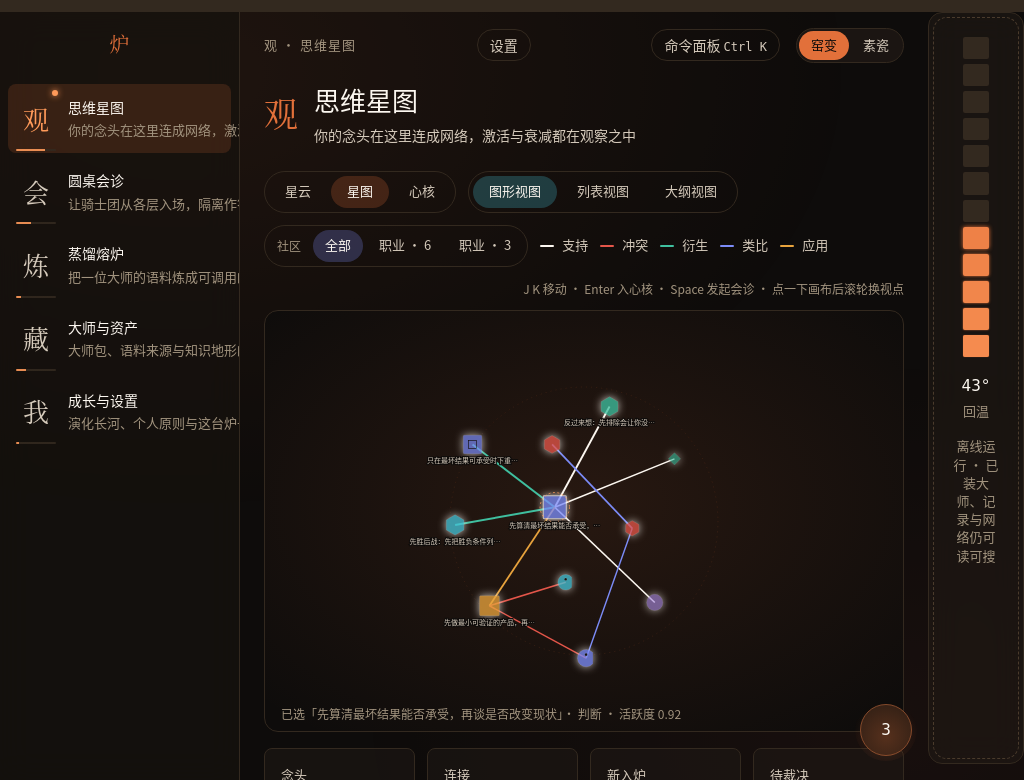
Test: 应用外壳 › 我境界显示运行信息
Click the button "我 成长与设置 演化长河、个人原则与这台炉子的所有开关": click(120, 411) [8,377,231,446]
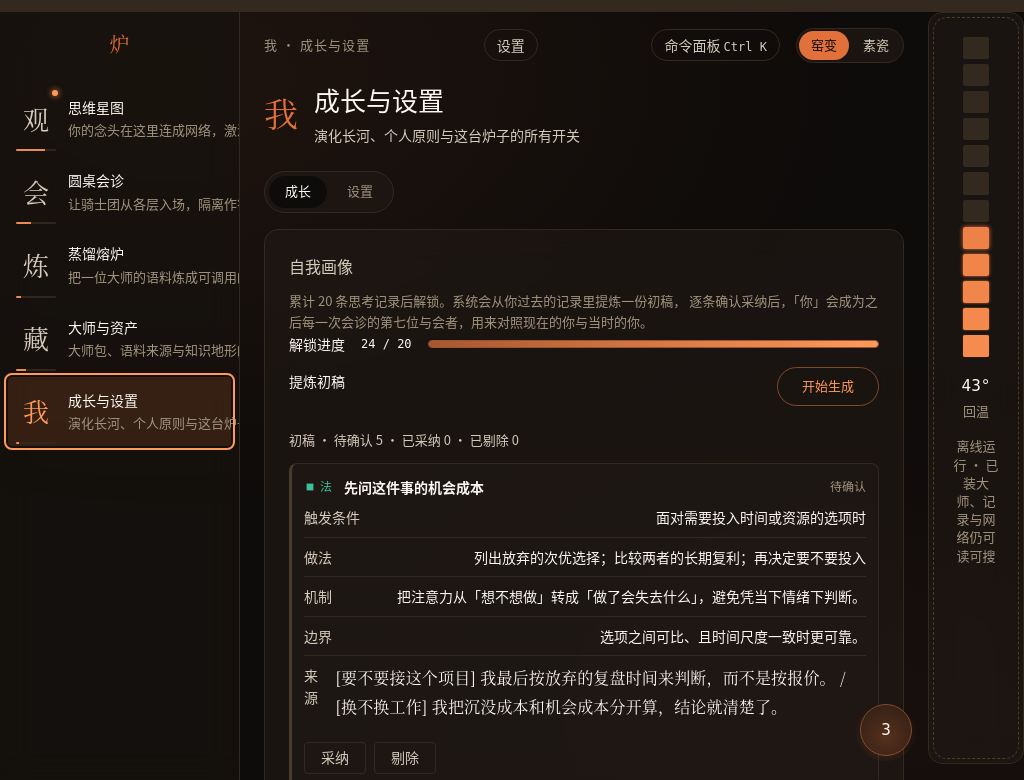
Click the tab "设置": click(360, 192) [331,176,389,208]
(page scrolled)
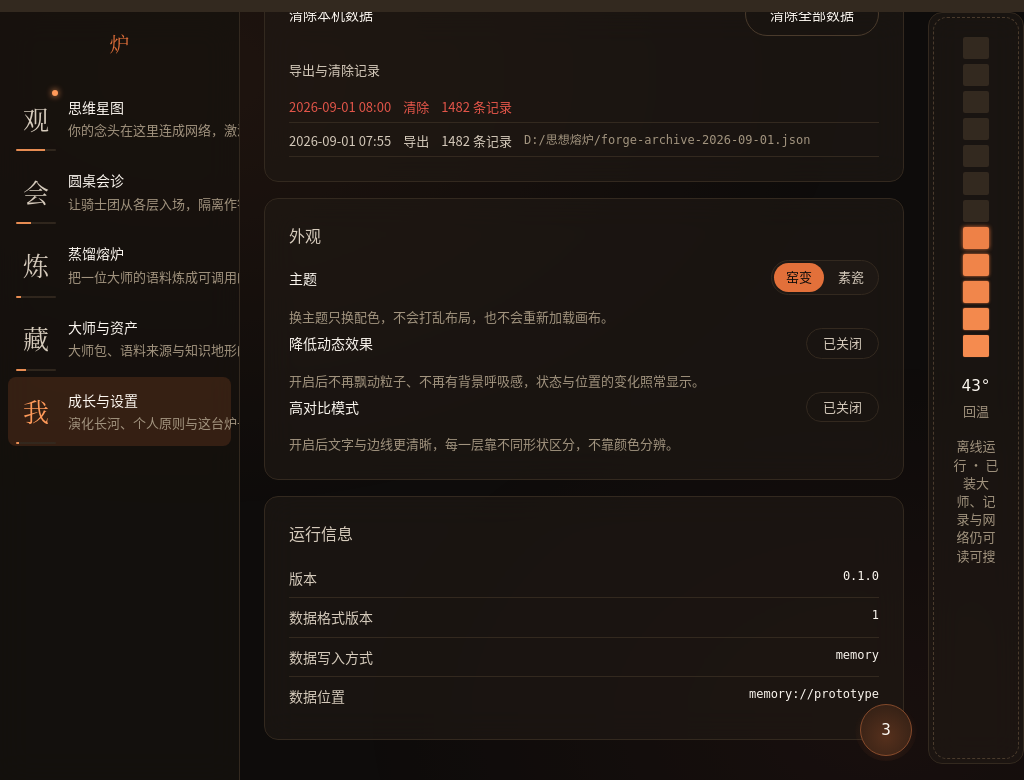
Check: the text "数据格式版本" is shown, box [289,606,373,629]
Check: the text "memory" is shown, box [836,646,879,668]
